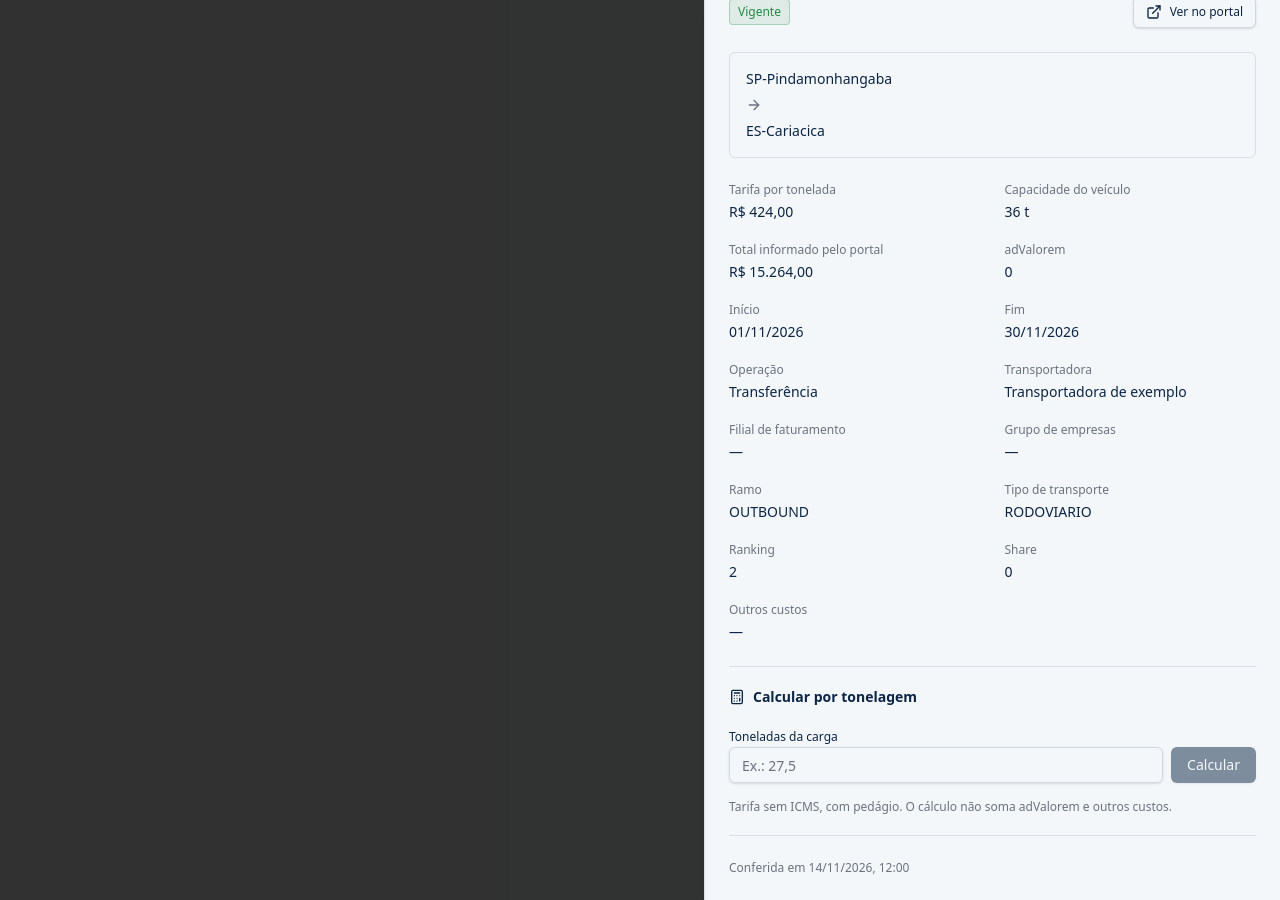
Scenario: calcula com a tonelagem informada sem preencher a capacidade do veículo como carga
(page scrolled)
Check: the text "36 t" is shown, box [1004,202,1029,221]
Type "27,5" into the field labelled "Toneladas da carga" at (946, 765), box [729,747,1163,783]
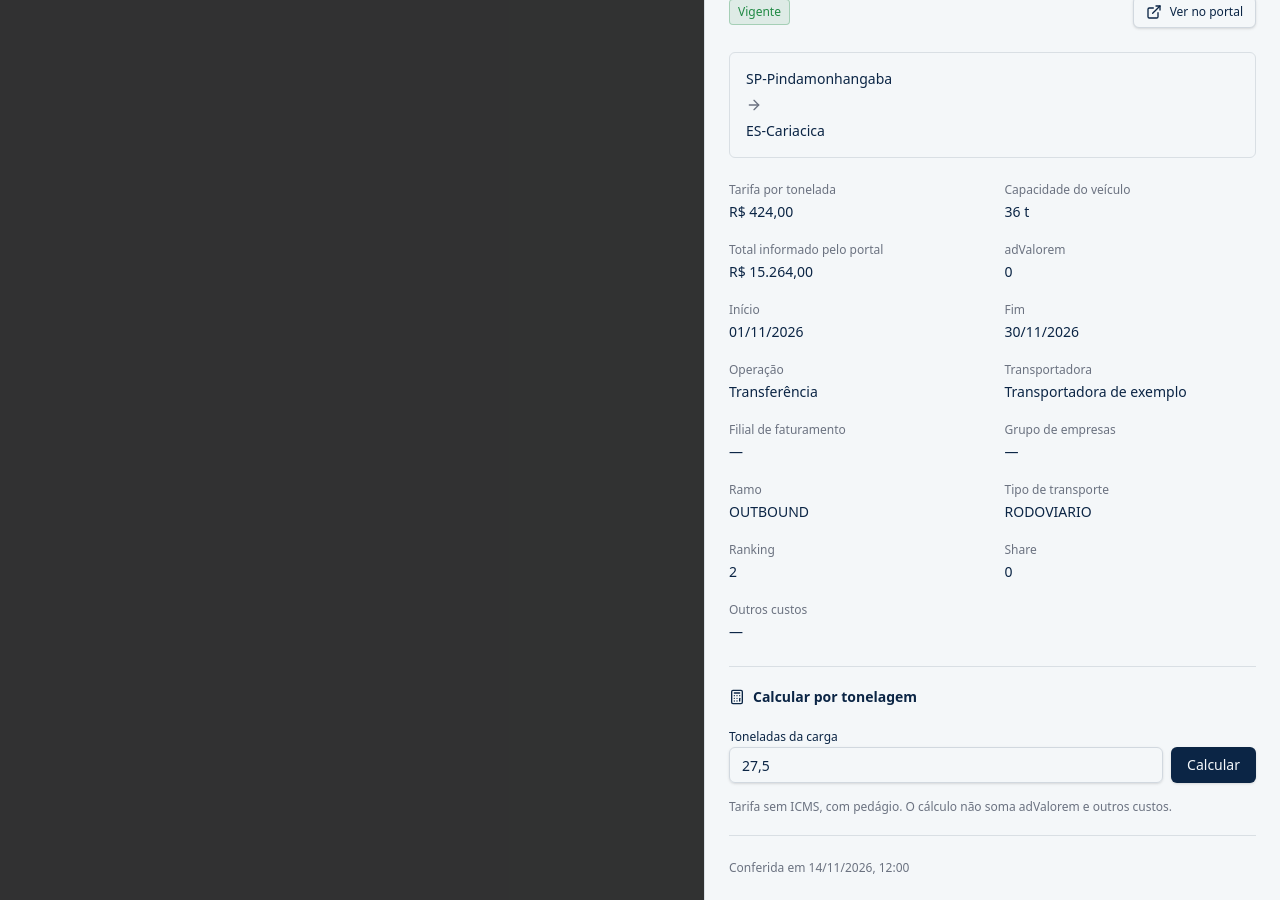
Click the button "Calcular" at (1214, 765), box [1171,747,1256,783]
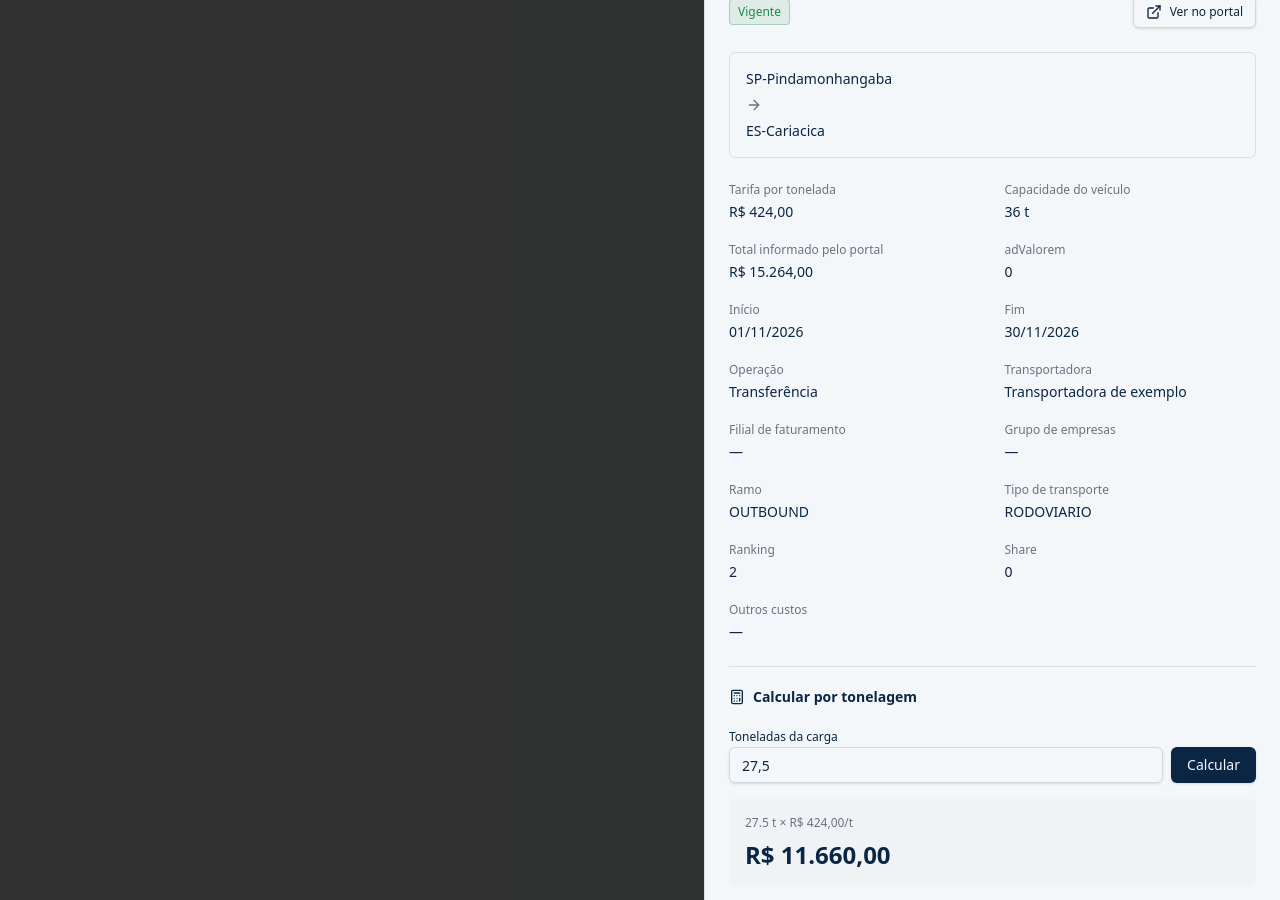
Check: the text "R$ 11.660,00" is shown, box [745,838,891,871]
Check: the text "27.5 t × R$ 424,00/t" is shown, box [745,814,853,831]
